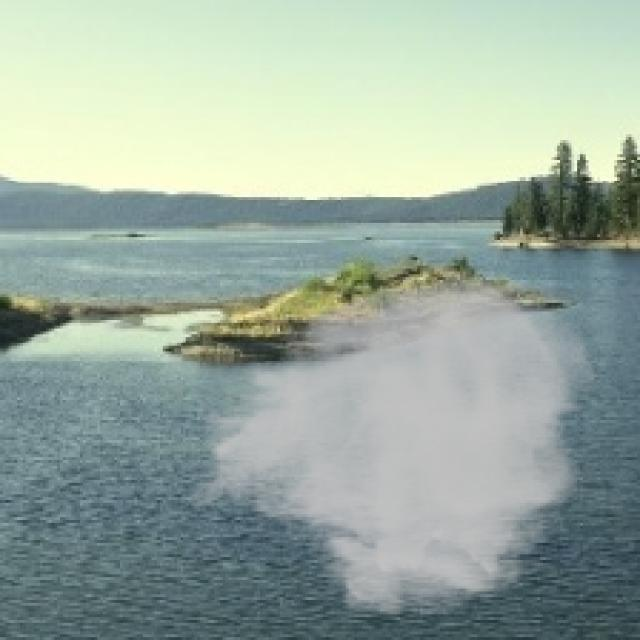Smoke: (183, 269, 600, 620)
